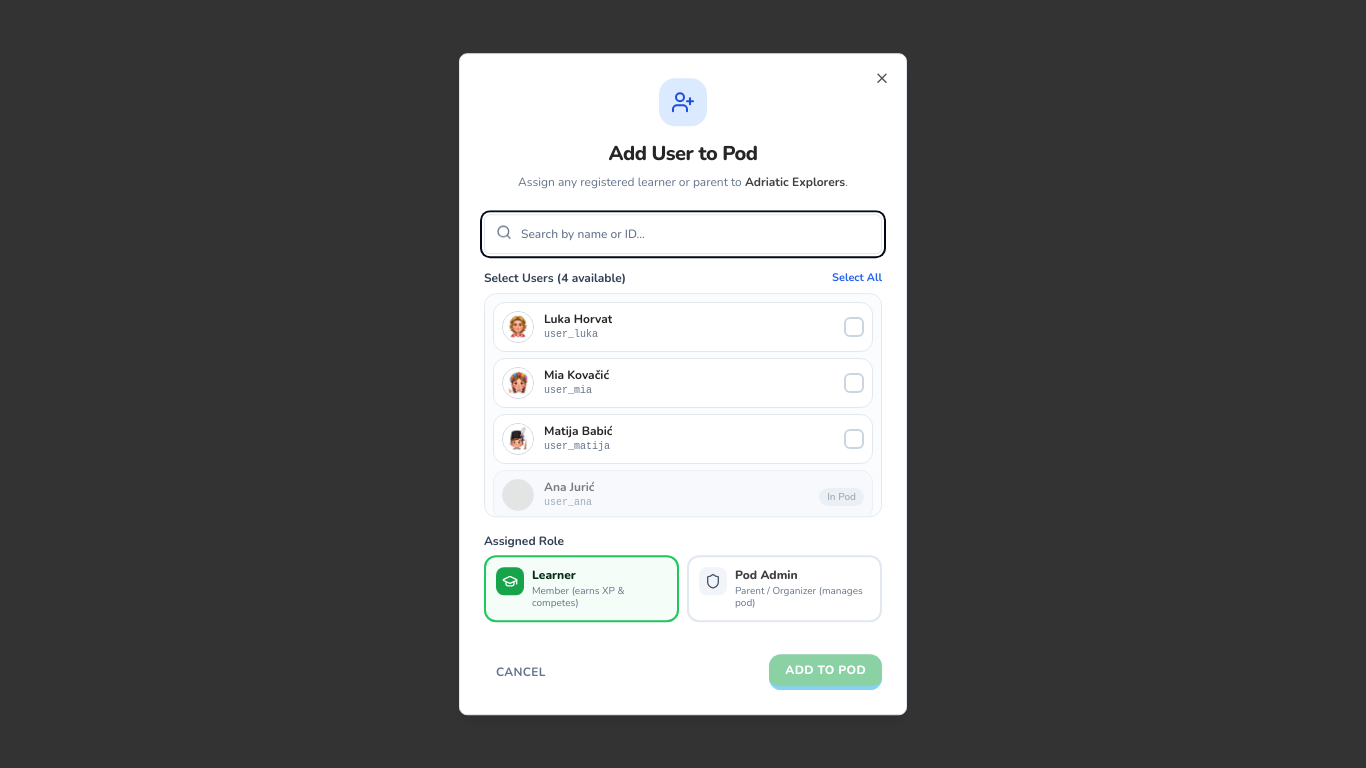
<AddMemberToPodModal /> State Machine & Selection Logic › filters users via the search input and handles empty results
This screenshot has width=1366, height=768.
In the field with placeholder "Search by name or ID...": [683, 234] box [484,214,882,254], type "Horvat"
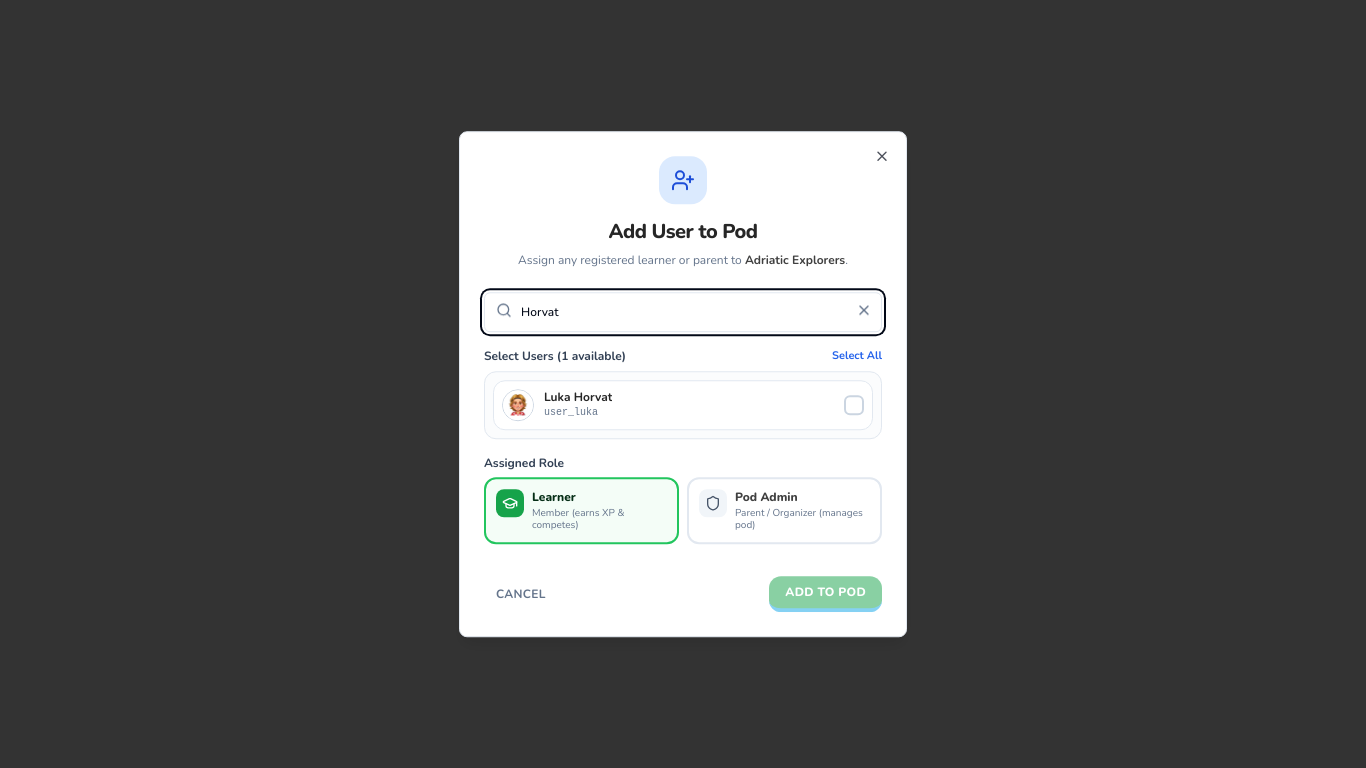
Check: the text "Luka Horvat" is shown, box [544,389,612,405]
Check: the button "Mia Kovačić" is gone
# Type non-existent query
Replace the text in the field with placeholder "Search by name or ID..." with "NonExistentName": [683, 312] box [484,292,882,332]
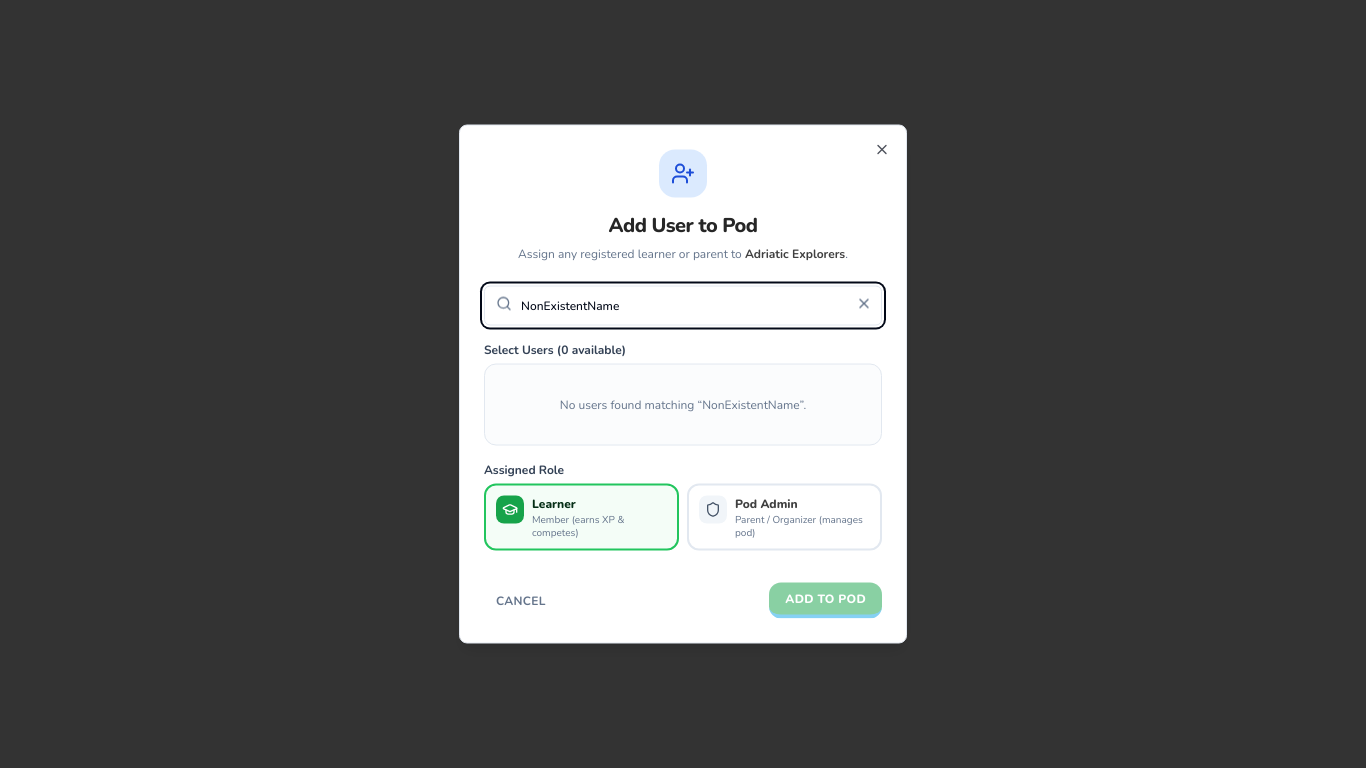
Check: the text "No users found matching “NonExistentName”." is shown, box [560,396,806,412]
